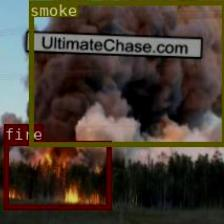fire: (3, 140, 110, 208)
smoke: (28, 0, 224, 145)
